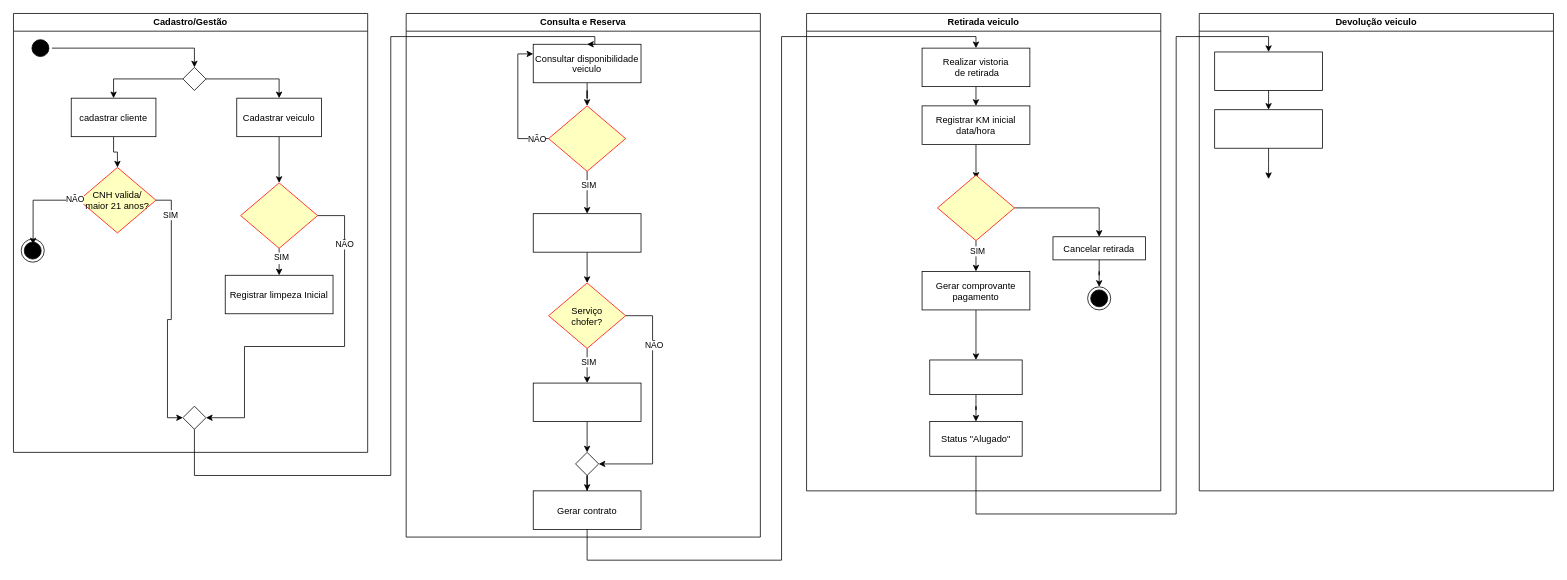
Image size: 1567x580. Some labels were removed from this diagram. The shapes that lost their labels are listed below. From the top down, each one's centre as x and y in pixels, then its label:
At point 1268,70: "Cliente retorna".
At point 587,138: "Disponivel?".
At point 1268,128: "Realizar vistoria de devolução".
At point 279,215: "Veiculo novo?".
At point 975,207: "Pagamento integral?(RN4)".
At point 586,232: "Realizar reserva".
At point 975,377: "Entregar veiculo".
At point 586,402: "adicionar taxa chofer".
